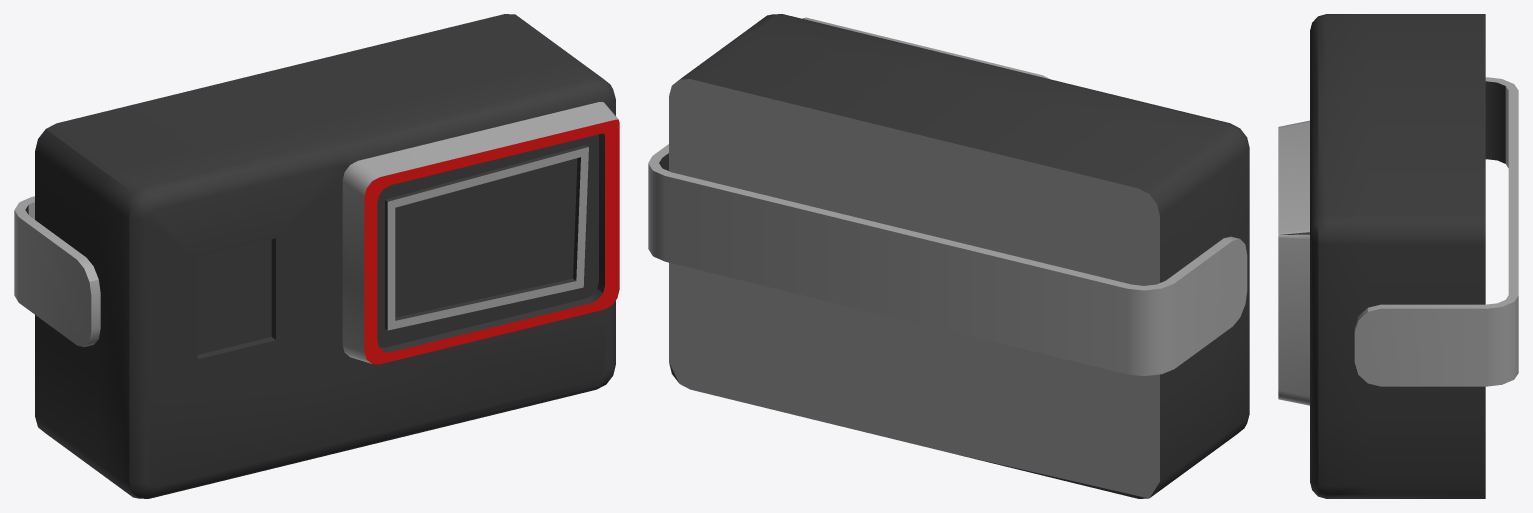
Rendered from Cam2.gltf.
3 renders of one model, left to right at view 1: azimuth 30°, elevation 25°; view 2: azimuth 150°, elevation 25°; view 3: azimuth 270°, elevation 25°, orthographic. The views are drawn at different scales.
Parts seen in each view (by area): view 1: Camara3; view 2: Camara3; view 3: Camara3.
Boxes of the visible parts, <box> form: Camara3: <box>14,14,619,498</box>; Camara3: <box>648,14,1249,498</box>; Camara3: <box>1278,14,1518,498</box>.
Bounding box in the file's own units: 0.4562 × 0.2592 × 0.2001.
